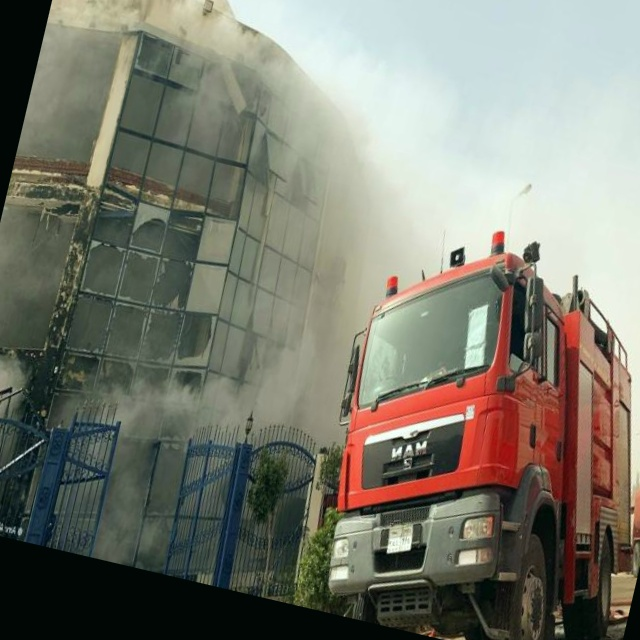Fire-truck: (292, 201, 640, 640)
